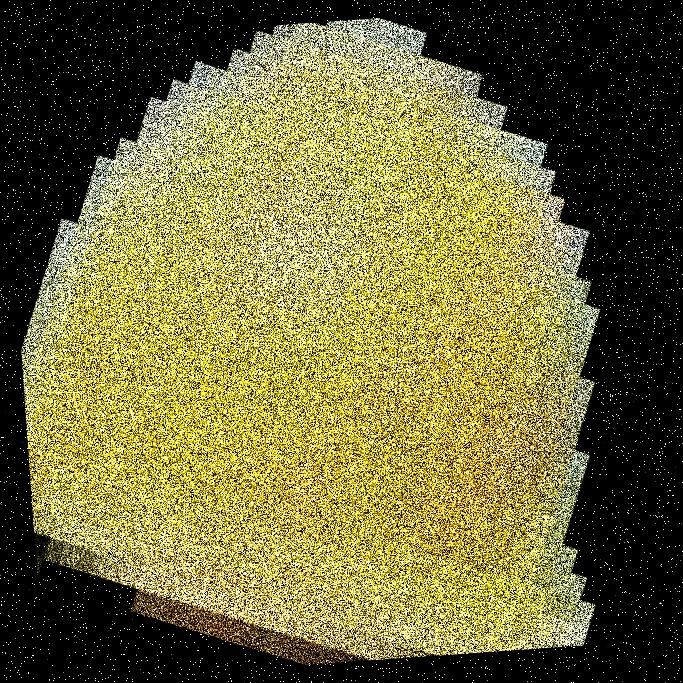Capacete: (88, 0, 524, 682)
